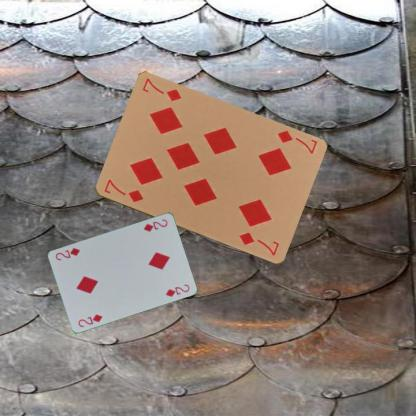2d: (76, 310, 103, 328), (141, 216, 169, 233)
7d: (101, 176, 145, 204), (274, 128, 318, 155)
